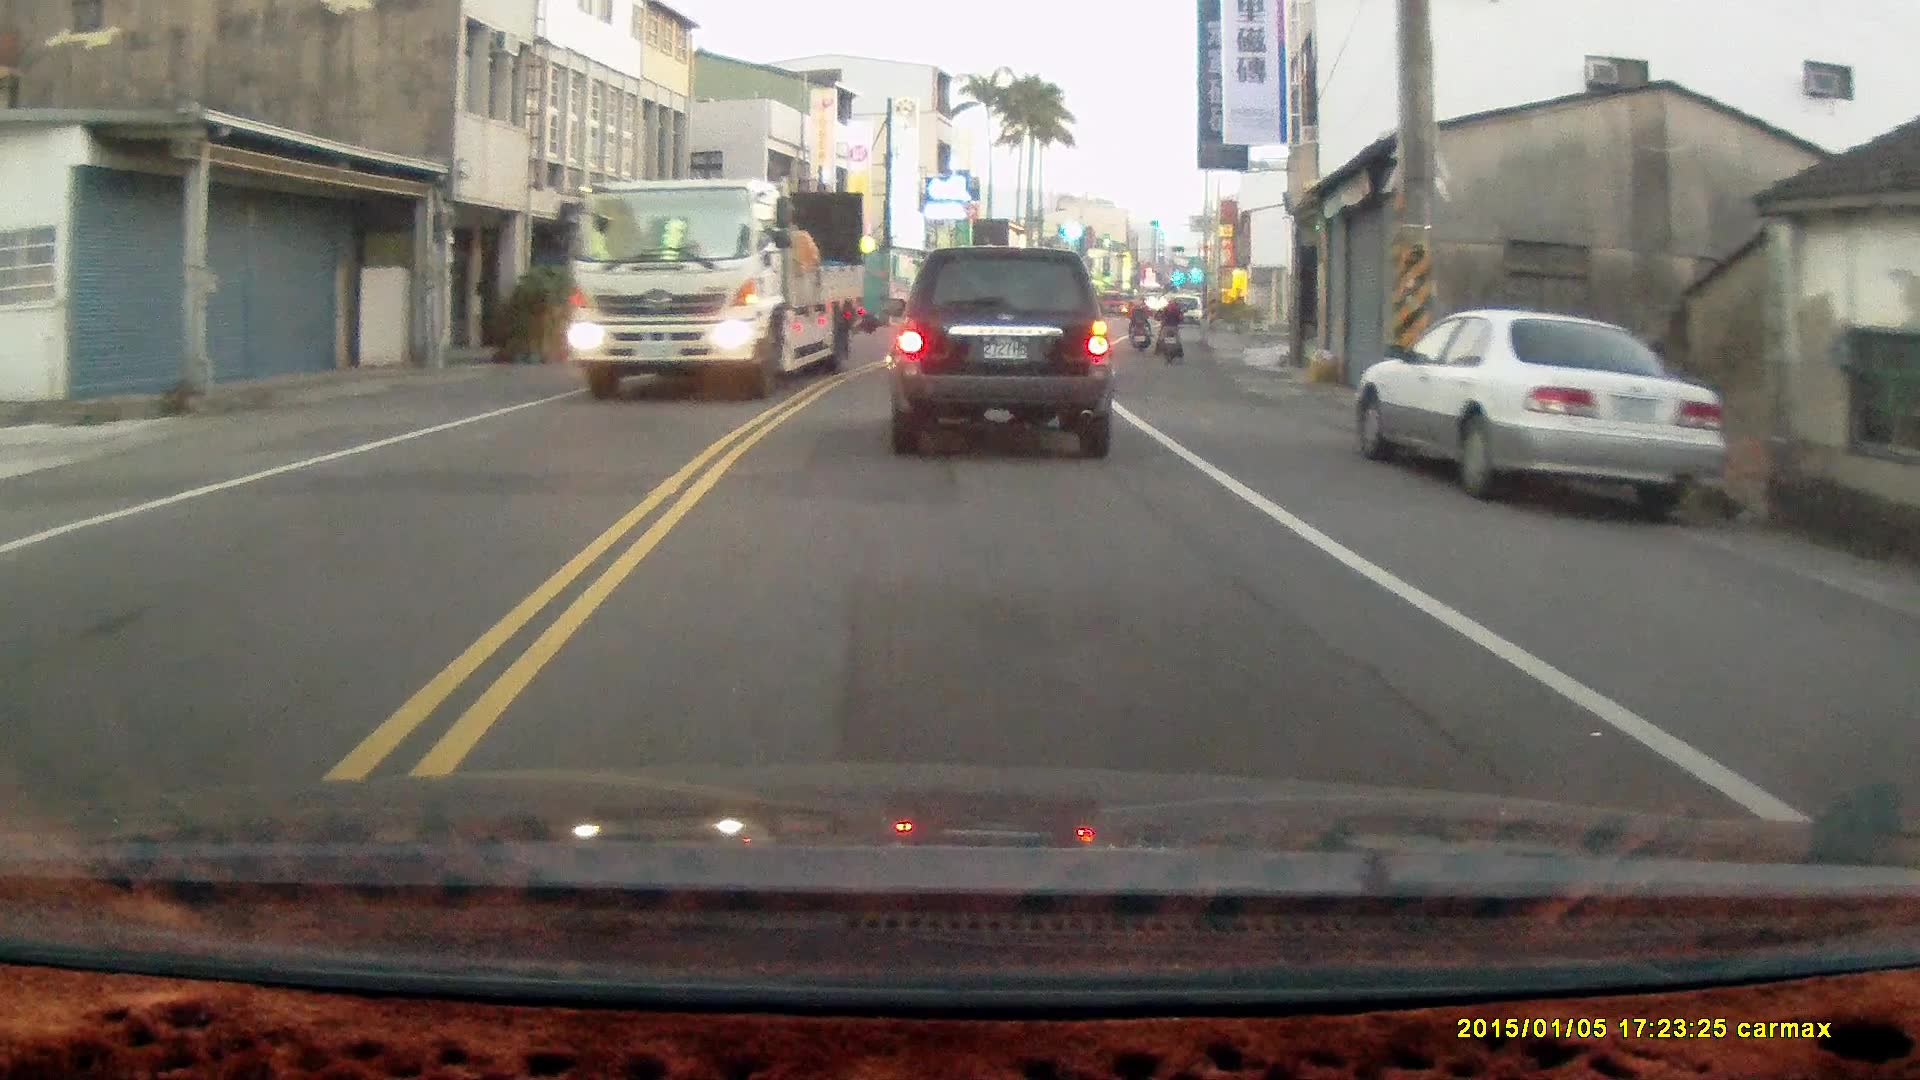rider: (1153, 291, 1184, 369), (1124, 291, 1151, 356)
vehicle: (1355, 310, 1724, 519), (573, 174, 868, 395), (892, 245, 1119, 456)
